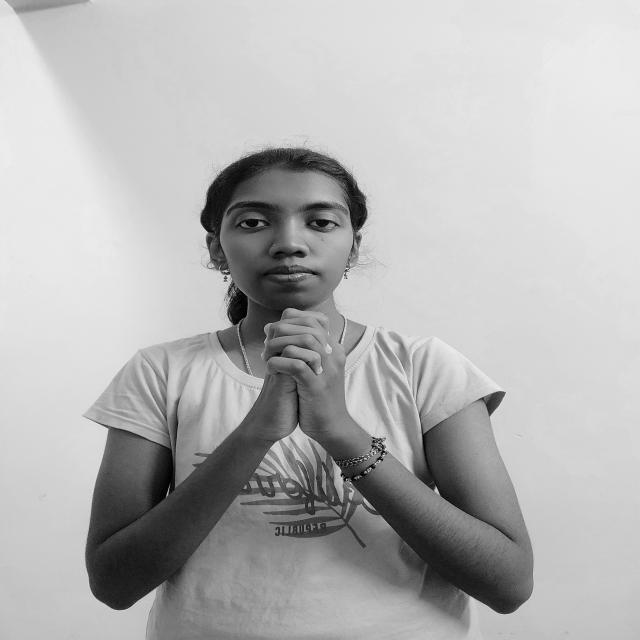Sorry: (234, 303, 370, 455)
